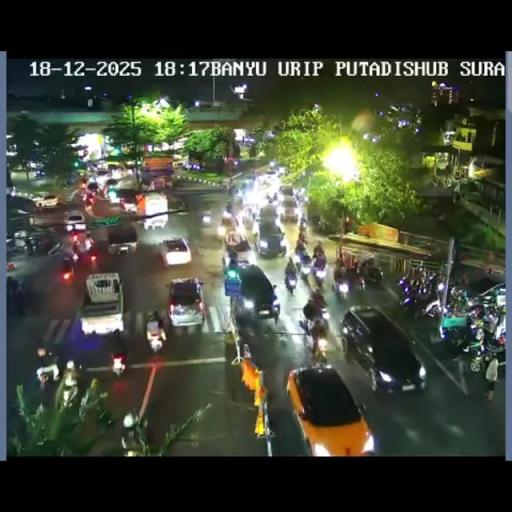Car: (286, 364, 371, 454), (341, 306, 426, 392), (77, 273, 124, 335), (232, 264, 279, 321), (166, 277, 206, 329), (222, 230, 256, 269), (254, 217, 286, 257), (136, 191, 168, 229), (472, 281, 505, 313), (106, 225, 138, 257), (158, 237, 192, 266), (278, 186, 298, 222), (257, 171, 281, 192), (63, 210, 86, 231), (219, 213, 235, 238), (34, 194, 59, 208), (201, 209, 212, 227), (103, 178, 119, 190), (88, 181, 98, 193)
Motorcycle: (436, 312, 474, 350), (400, 281, 438, 318), (302, 315, 330, 360), (478, 319, 505, 359), (34, 367, 60, 407), (120, 426, 147, 455), (60, 362, 79, 400), (448, 288, 470, 314), (462, 338, 484, 363), (332, 270, 350, 298), (309, 289, 327, 315), (147, 330, 165, 354), (146, 310, 164, 334), (312, 254, 326, 284), (365, 264, 384, 286), (112, 350, 126, 378), (296, 250, 312, 274), (466, 303, 484, 323), (350, 270, 366, 292), (6, 276, 22, 298), (317, 216, 335, 234), (270, 290, 280, 322), (284, 270, 297, 294), (61, 258, 74, 282), (86, 243, 99, 265), (232, 189, 246, 208), (313, 240, 325, 259), (71, 240, 81, 261), (122, 201, 138, 214), (298, 222, 308, 240), (24, 239, 34, 256), (267, 191, 279, 205), (85, 193, 94, 206), (250, 206, 258, 220), (220, 182, 229, 192)
